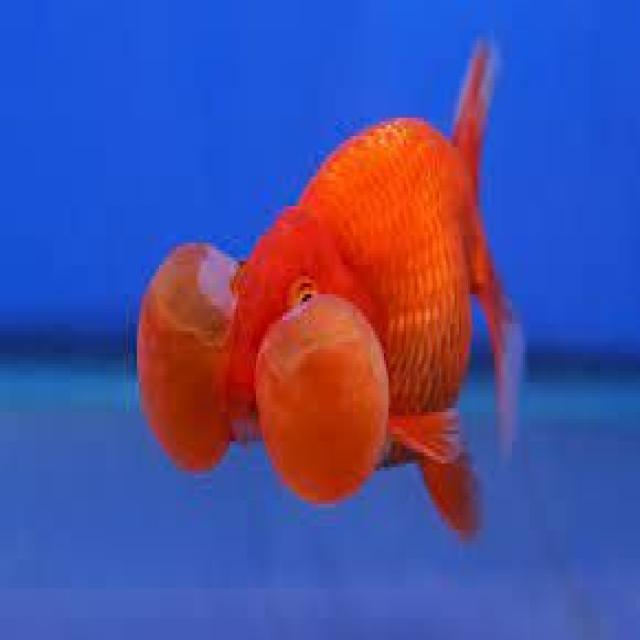Gold-Fish: (63, 0, 625, 598)
